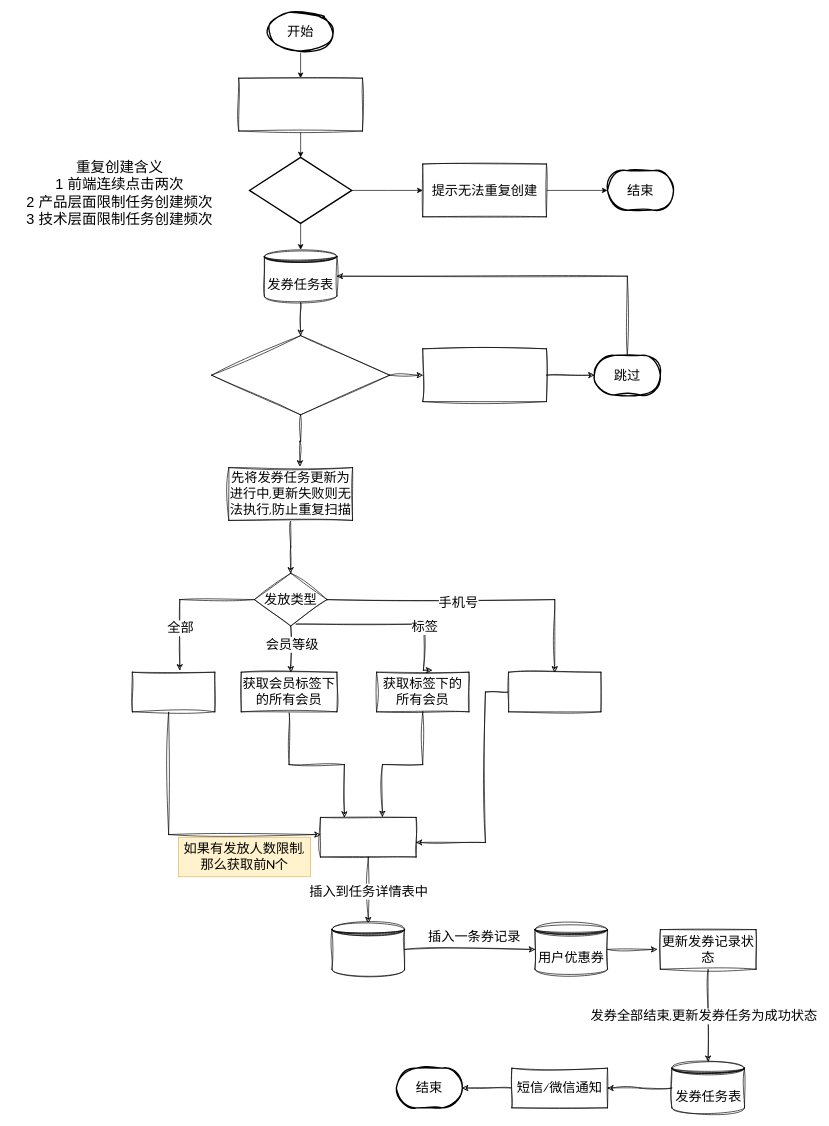
The diagram is 829 pixels wide and 1126 high, and some of its shapes have lost their labels. The box of each missing label's shape, as (x1, y1, x2, y2) in pixels:
优惠券模板已停用/过期: (211, 335, 390, 415)
发券任务详情表: (331, 922, 405, 976)
商户创建任务: (238, 78, 362, 131)
是否重复创建: (248, 156, 352, 224)
更新任务状态为过期/停用: (422, 348, 546, 402)
生成发券任务详情: (320, 817, 416, 857)
获取店铺下的所有会员: (132, 672, 215, 712)
获取手机号: (508, 672, 601, 712)
